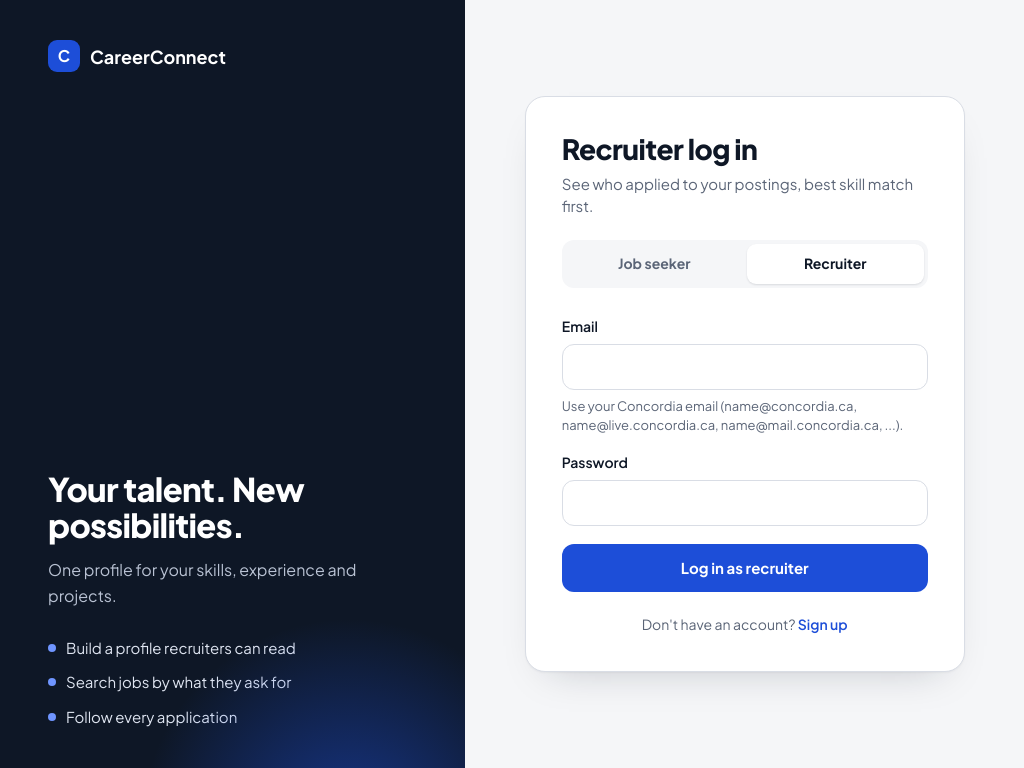
Test: login by role › refuses and signs out when Recruiter is chosen on a non-recruiter account
Step 1. Type "name@live.concordia.ca" into the field labelled "Email" → (745, 367), box [562,344,928,390]
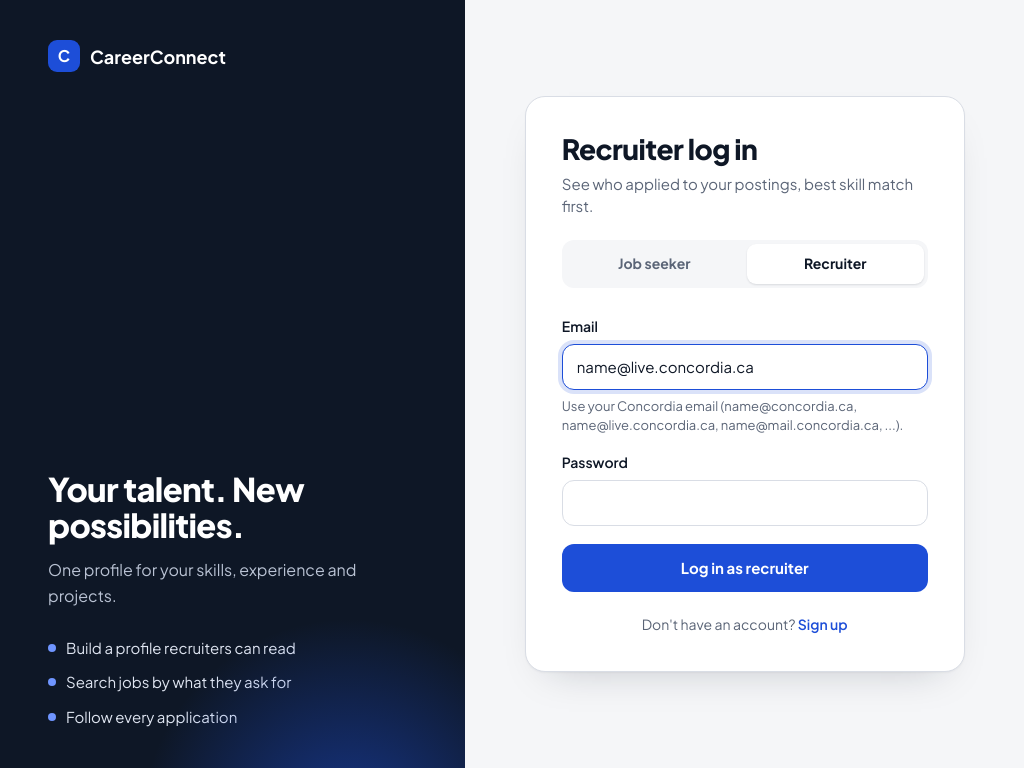
Step 2. Type "Password123" into the password field labelled "Password" → (745, 503), box [562,480,928,526]
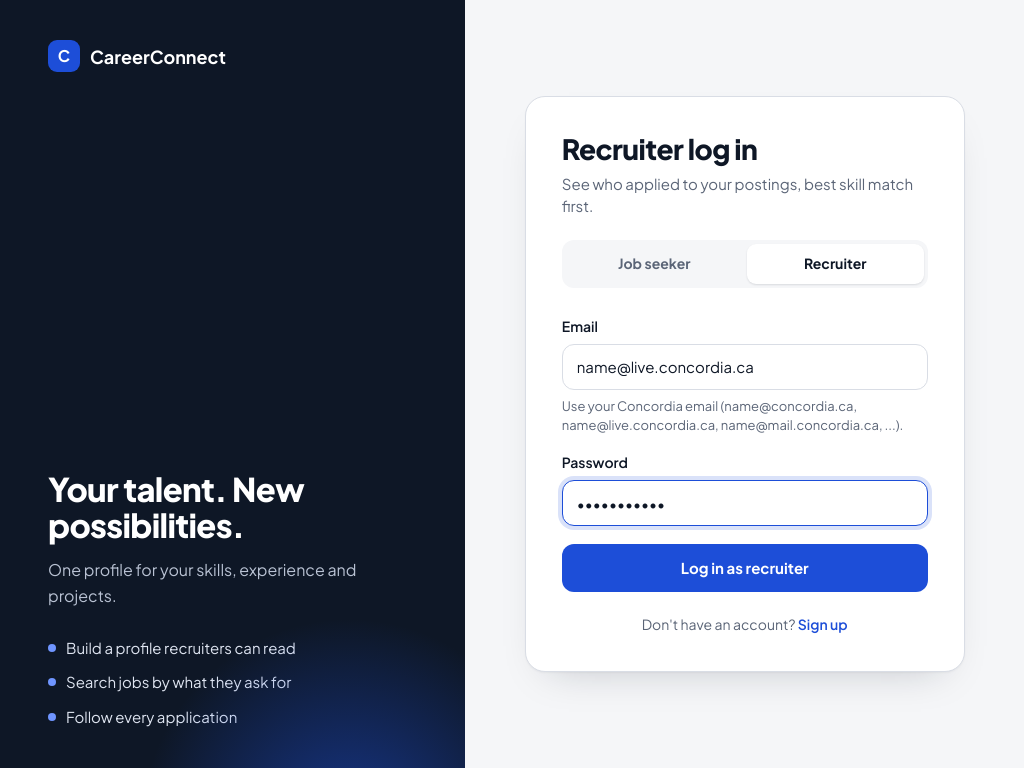
Step 3. Click the button "Log in as recruiter" → click(745, 568), box [562,544,928,592]
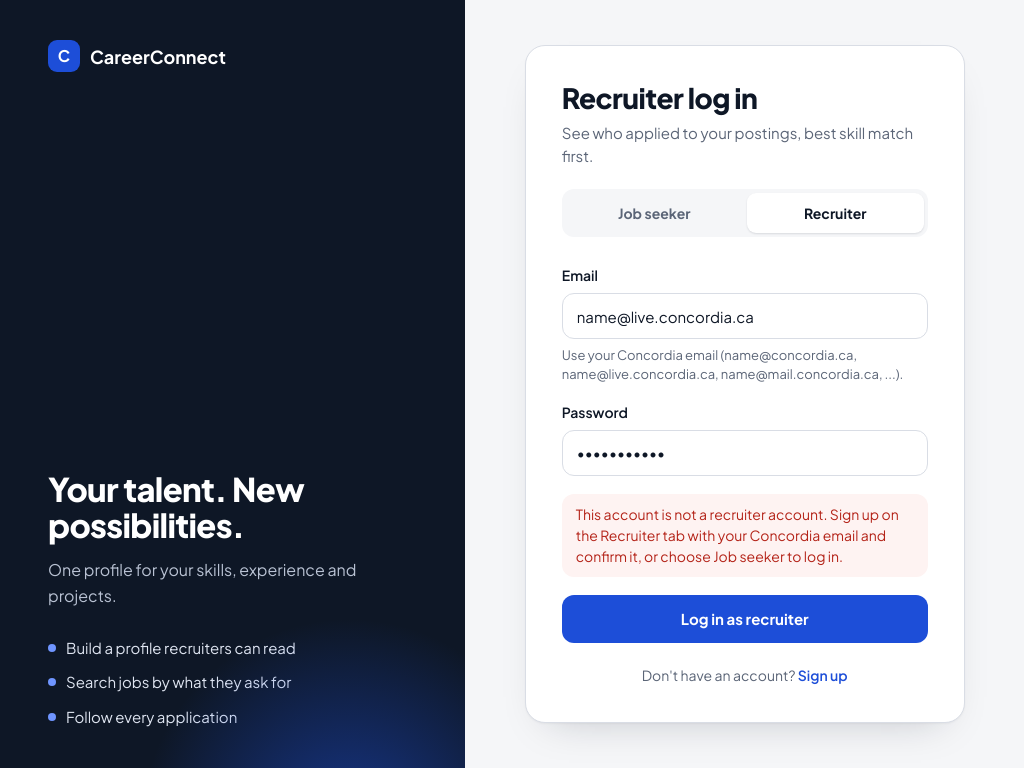
Now the message is shown, box [562,494,928,577]
Now the message shows "not a recruiter account", box [576,505,899,565]
